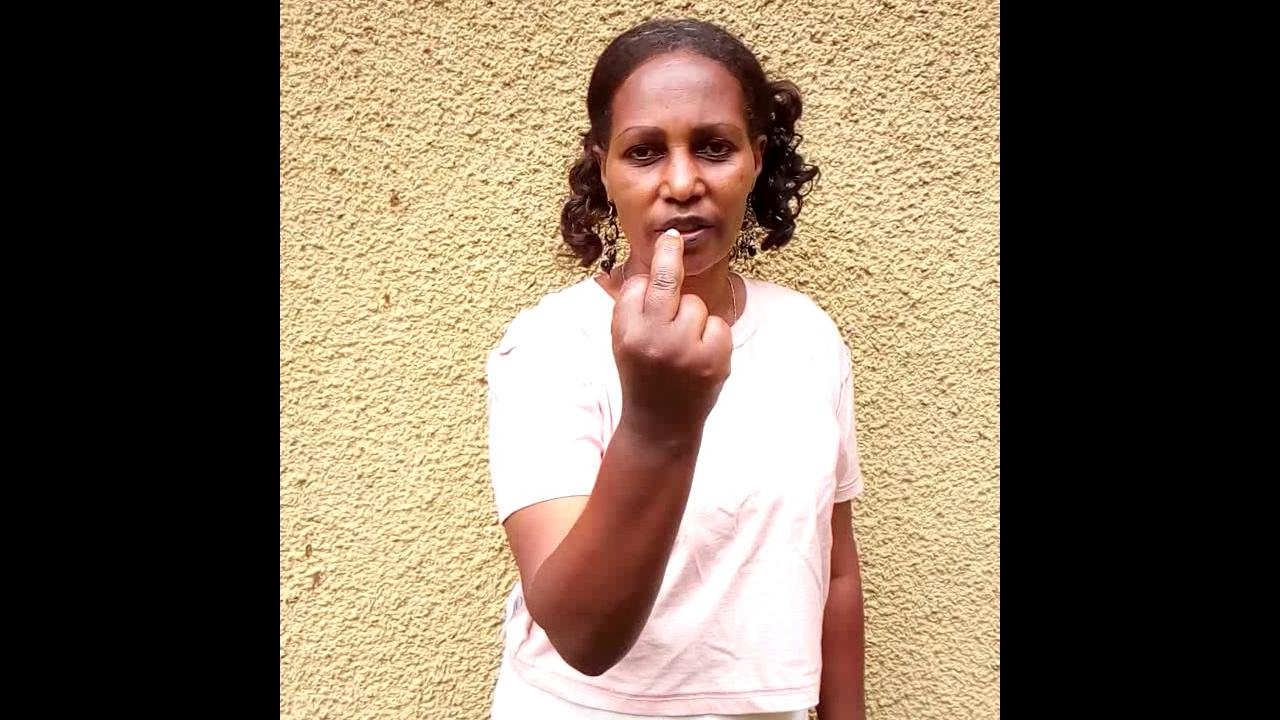CHE: (610, 231, 734, 555)
